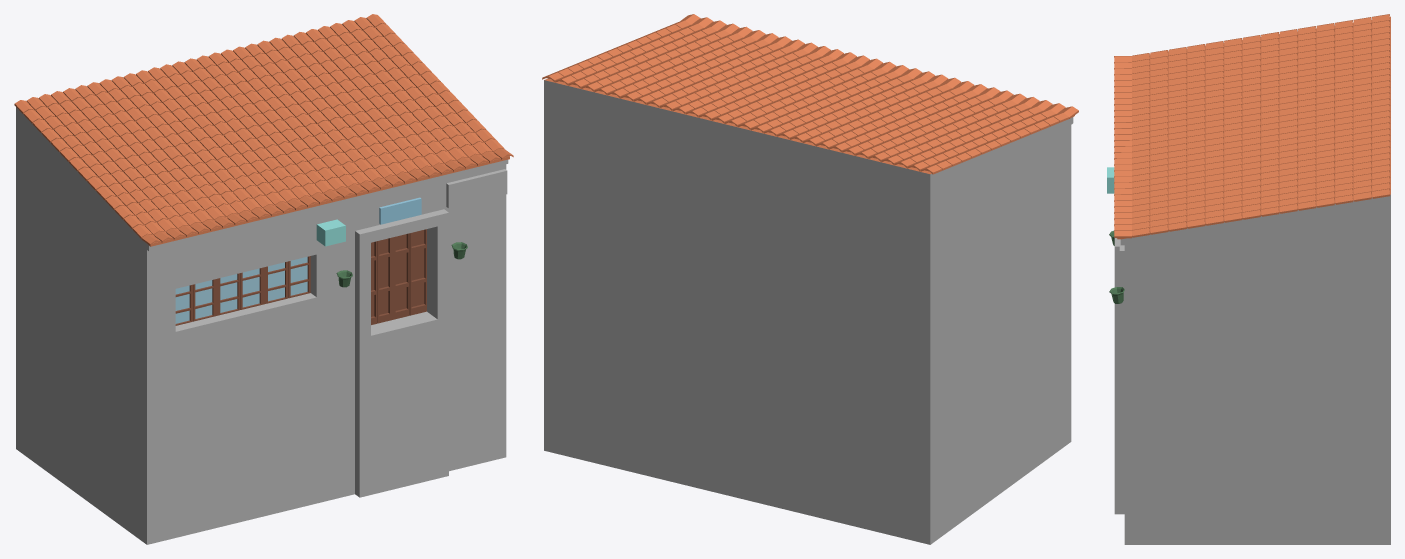
The model's file is 18_Centro_Guadalinfo_Rafael_Vilar.fbx.
3 views of the same model, side by side, from view 1: azimuth 30°, elevation 25°; view 2: azimuth 150°, elevation 25°; view 3: azimuth 270°, elevation 25° (orthographic). The views are drawn at different scales.
Parts seen in each view (by area): view 1: house, Tejas_2.008, Madera_Ventanas_Inferior.004, Madera_Ventanas_Inferior.005, Madera_Ventanas_Inferior.003, Madera_Ventanas_Inferior.002, INFO.001, Madera_Ventanas_Inferior.006; view 2: house, Tejas_2.008; view 3: house, Tejas_2.008.
Boxes of the visible parts, <box> form: house: <box>16,72,509,544</box>; Tejas_2.008: <box>14,14,513,245</box>; Madera_Ventanas_Inferior.004: <box>392,229,426,319</box>; Madera_Ventanas_Inferior.005: <box>371,237,392,324</box>; Madera_Ventanas_Inferior.003: <box>216,267,264,315</box>; Madera_Ventanas_Inferior.002: <box>264,256,310,304</box>; INFO.001: <box>379,197,421,224</box>; Madera_Ventanas_Inferior.006: <box>175,279,216,325</box>; house: <box>544,34,1074,544</box>; Tejas_2.008: <box>542,14,1078,174</box>; house: <box>1107,16,1390,544</box>; Tejas_2.008: <box>1114,14,1390,238</box>.
Bounding box in the file's own units: 1017 × 932 × 676.
